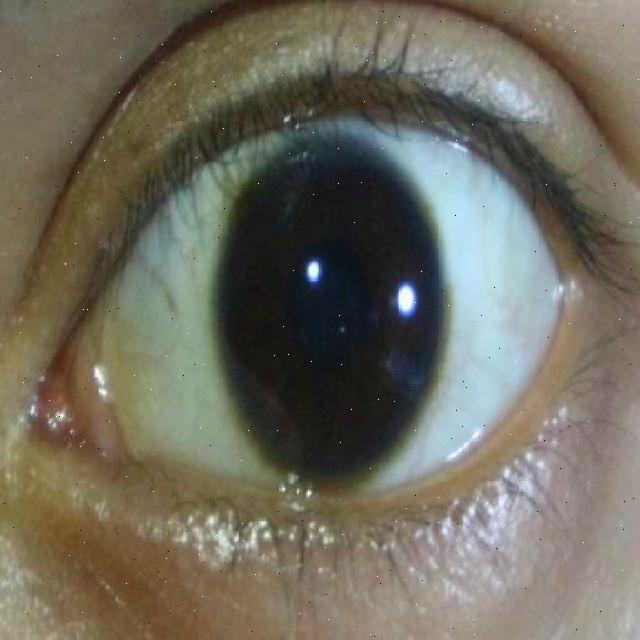Normal: (210, 135, 450, 491)
